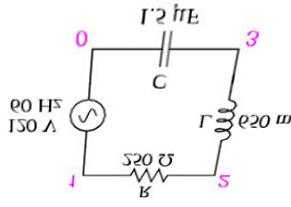inductor: (211, 87, 239, 142)
